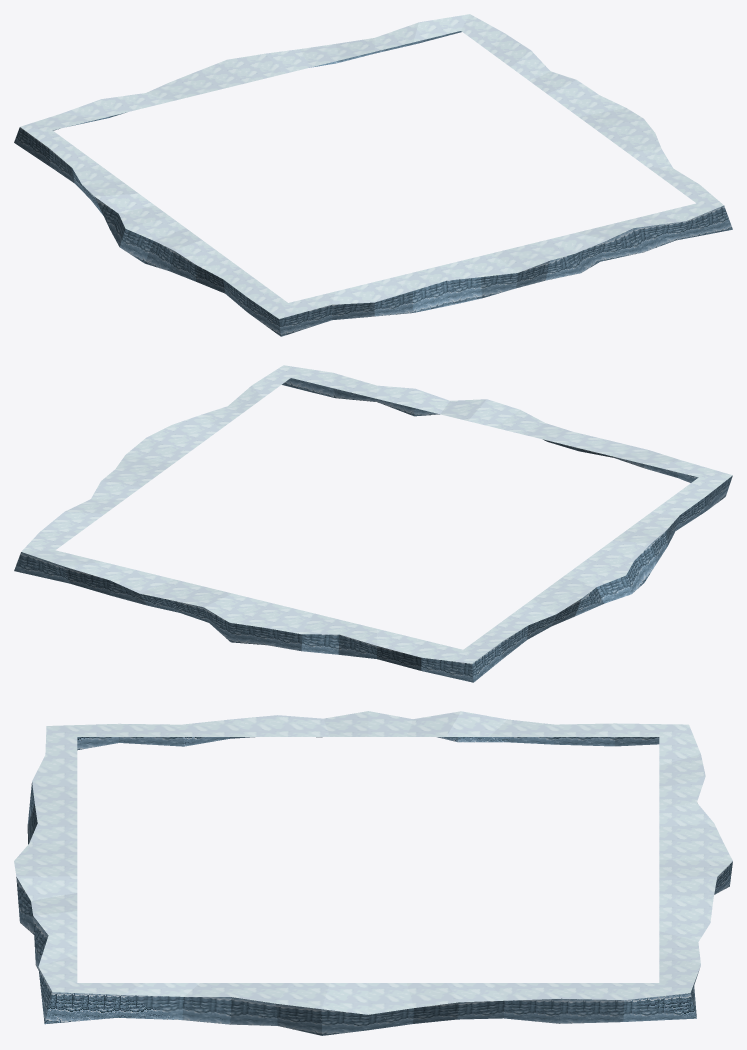
File: entorno_18.fbx
3 views of the same model, one above another, from view 1: azimuth 30°, elevation 25°; view 2: azimuth 150°, elevation 25°; view 3: azimuth 270°, elevation 25° (orthographic). The views are drawn at different scales.
Visible parts, largest first — view 1: neve_entorno_18; view 2: neve_entorno_18; view 3: neve_entorno_18.
Part boxes in pixels (x1,y1,x2,y2): neve_entorno_18: (14,14,732,336); neve_entorno_18: (14,365,732,682); neve_entorno_18: (14,711,732,1035).
Bounding box in the file's own units: 2260 × 107 × 2249.
2 materials, 2 textured.
